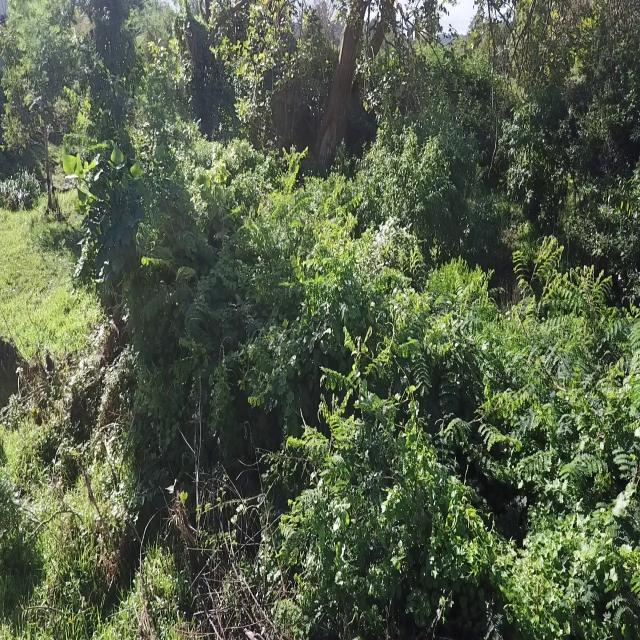Mysore-Thorn-Weed: (504, 226, 640, 484), (275, 370, 389, 544), (371, 322, 481, 450), (282, 180, 366, 316), (559, 503, 640, 634), (256, 150, 317, 248), (131, 240, 180, 331)
